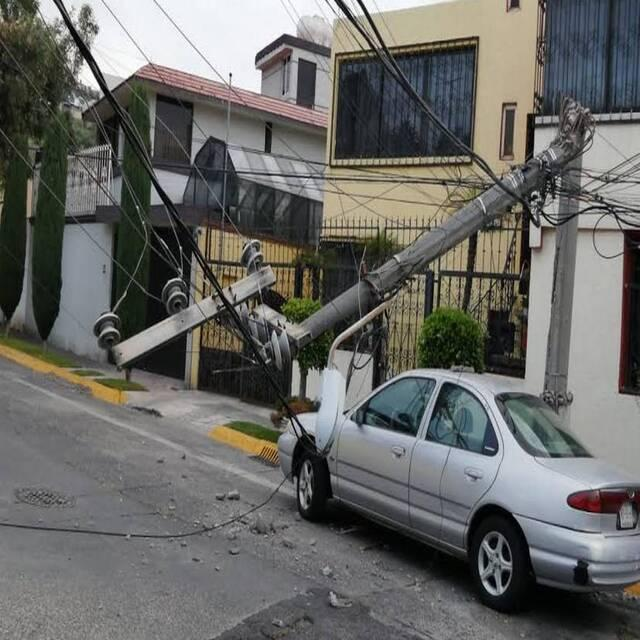Inclined Pole: (87, 103, 640, 458)
